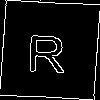R: (25, 25, 68, 74)
